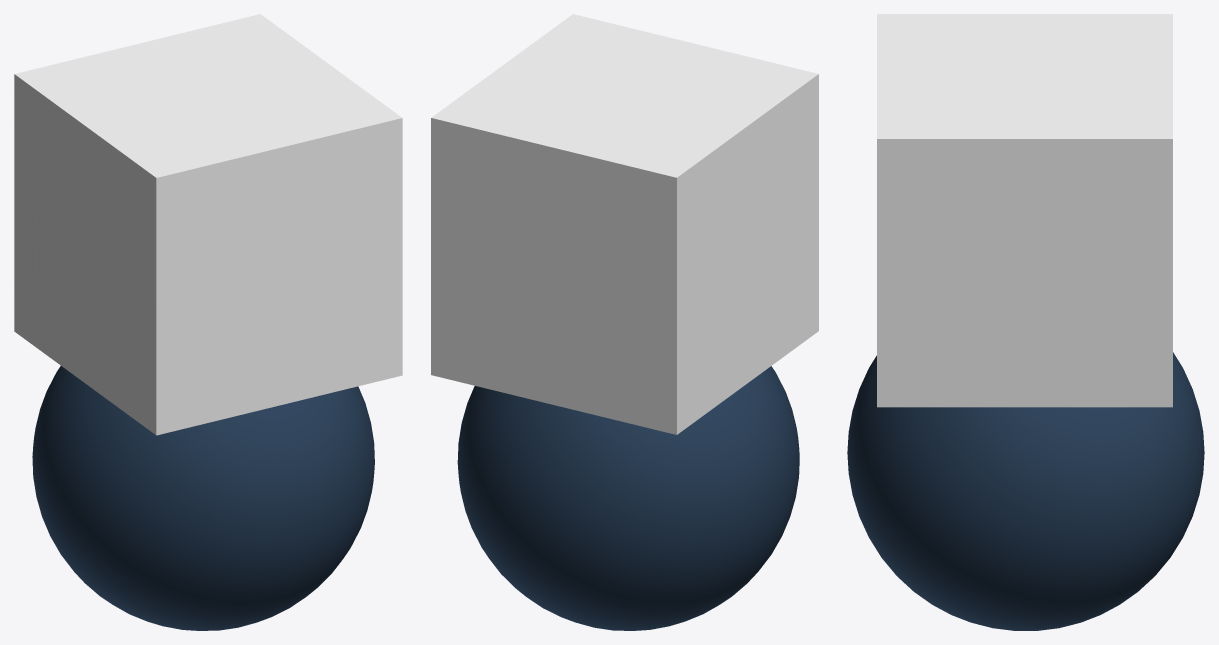
The model's file is sphere_blue.glb.
3 renders of one model, left to right at view 1: azimuth 30°, elevation 25°; view 2: azimuth 150°, elevation 25°; view 3: azimuth 270°, elevation 25°, orthographic. The views are drawn at different scales.
Visible parts, largest first — view 1: placeholder, GeoSphere001; view 2: placeholder, GeoSphere001; view 3: placeholder, GeoSphere001.
Part boxes in pixels (x1,y1,x2,y2): placeholder: (14, 14, 402, 435); GeoSphere001: (32, 366, 374, 630); placeholder: (431, 14, 818, 434); GeoSphere001: (457, 366, 799, 630); placeholder: (877, 14, 1172, 407); GeoSphere001: (847, 352, 1204, 630).
Size of the model in its own units: 2.31 by 3.86 by 2.31.
